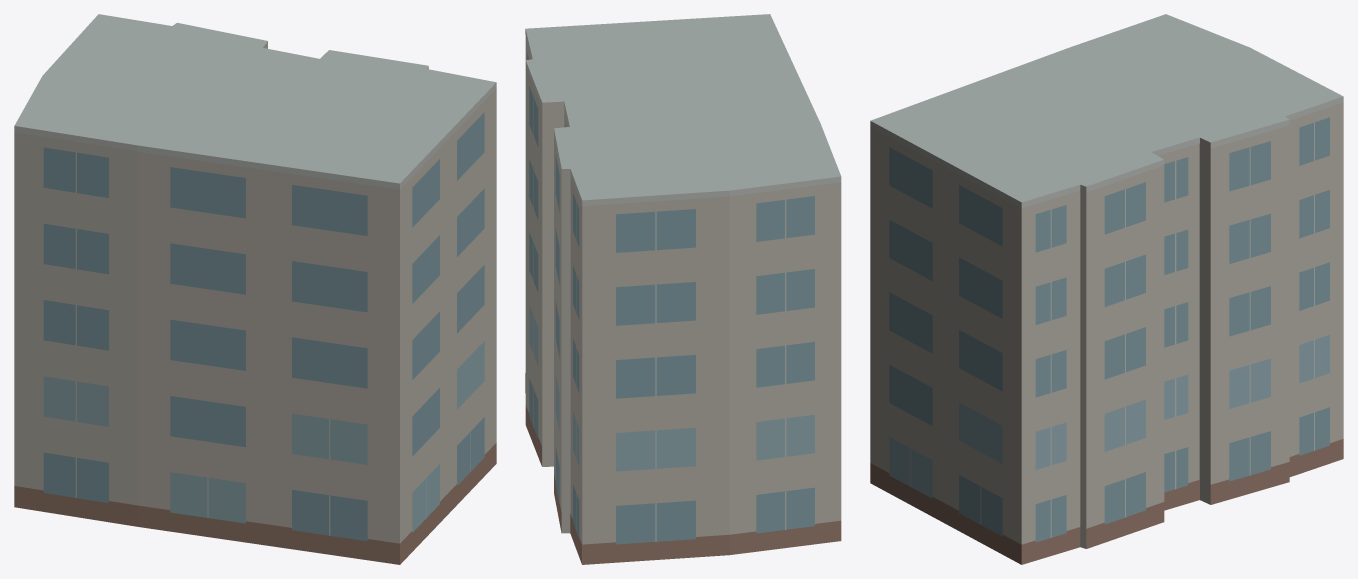
Rendered from survey-upis-33044876.glb.
3 renders of one model, left to right at view 1: azimuth 30°, elevation 25°; view 2: azimuth 150°, elevation 25°; view 3: azimuth 270°, elevation 25°, orthographic. The views are drawn at different scales.
Visible parts, largest first — view 1: survey-upis-33044876.tmp; view 2: survey-upis-33044876.tmp; view 3: survey-upis-33044876.tmp.
Part boxes in pixels (x1=…): survey-upis-33044876.tmp: x1=14, y1=14, x2=496, y2=564; survey-upis-33044876.tmp: x1=525, y1=14, x2=841, y2=564; survey-upis-33044876.tmp: x1=870, y1=14, x2=1343, y2=564.
Size of the model in its own units: 16.84 by 15.1 by 17.88.
